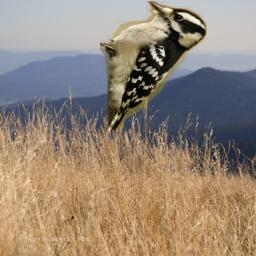Woodpecker: (100, 1, 207, 131)
